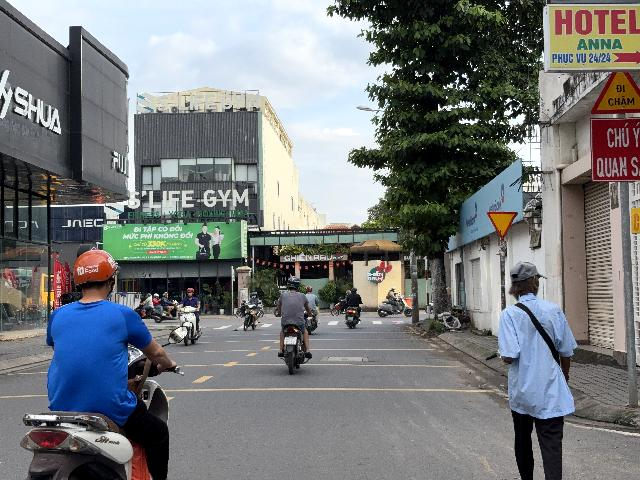giao-nhau-voi-duong-uu-tien: (486, 211, 518, 239)
